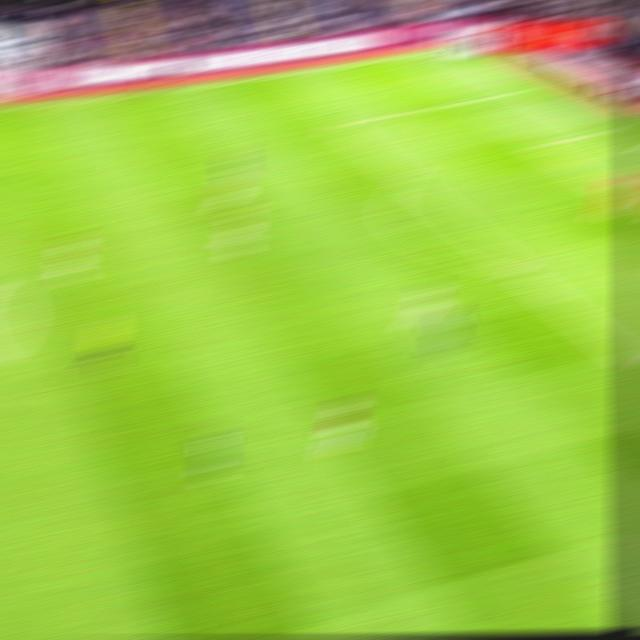bigarea_top_inner: (324, 114, 355, 132)
bigarea_top_outter: (508, 82, 537, 96)
bottom_arc_area_intersection: (500, 257, 532, 276)
corner: (429, 44, 459, 53)
smallarea_top_inner: (524, 137, 551, 152)
smallarea_top_outter: (588, 124, 616, 138)
top_arc_area_intersection: (392, 170, 423, 188)
